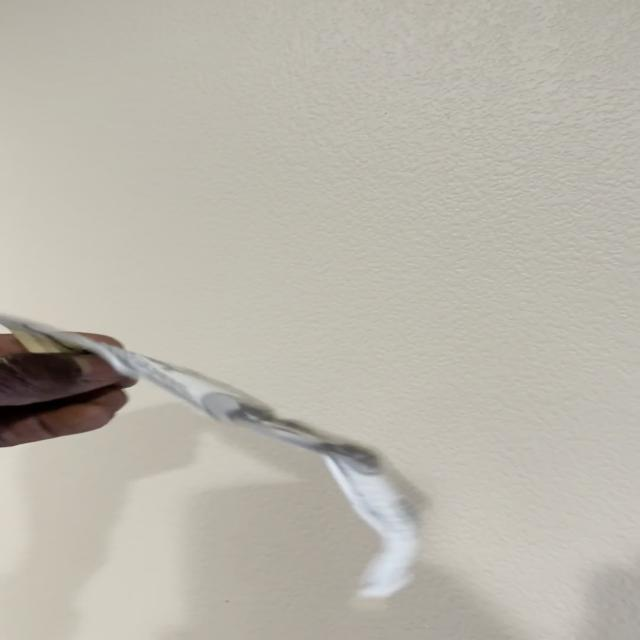hundred: (2, 314, 434, 608)
